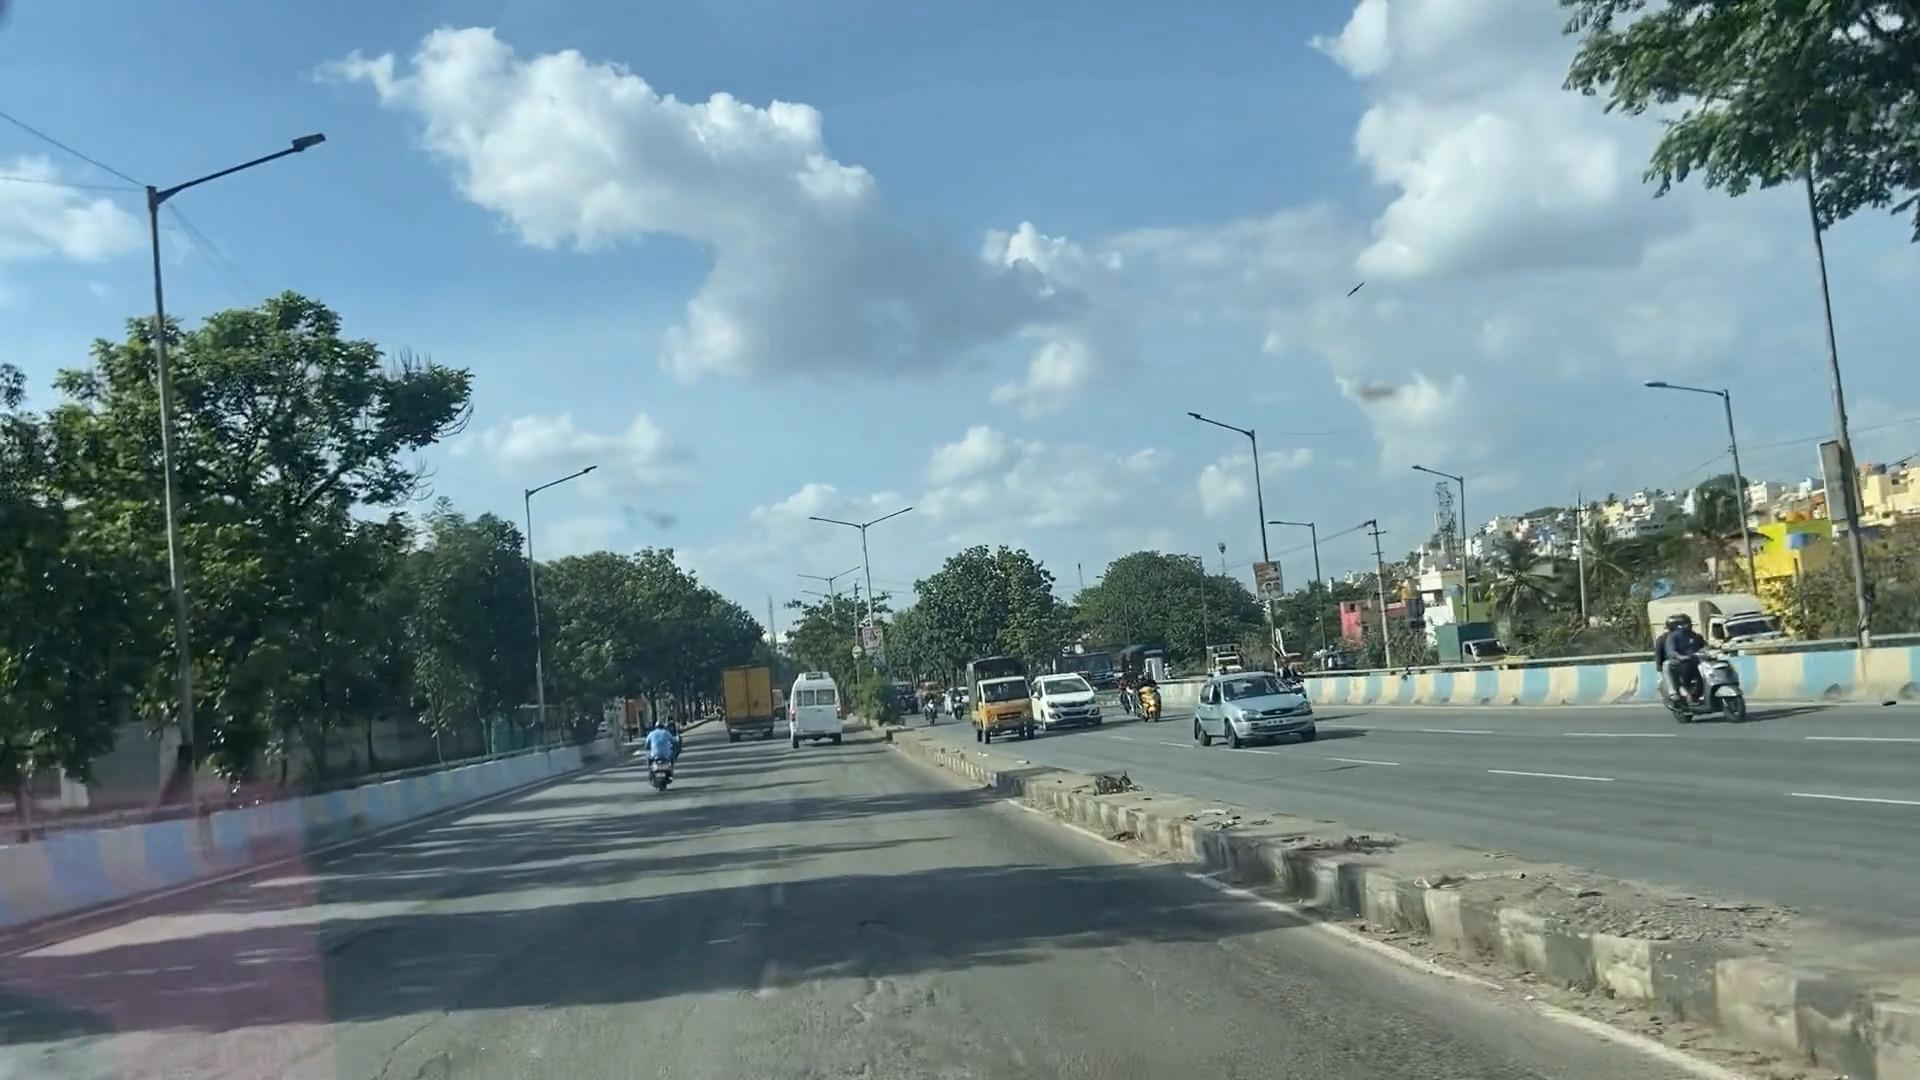HMV: (777, 651, 845, 748), (716, 655, 782, 737)
LMV: (630, 721, 686, 786)
RoadDamages: (340, 922, 1145, 1080), (1294, 975, 1506, 1080), (1195, 943, 1340, 1064)
